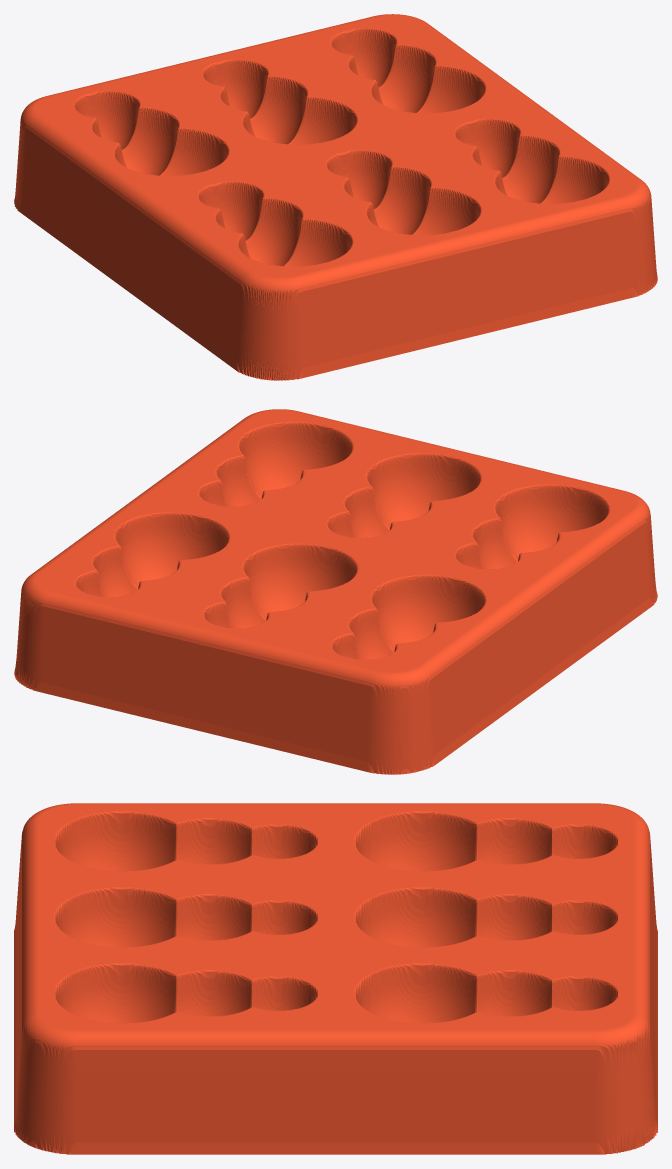
The model's file is mold.glb.
3 views of the same model, one above another, from view 1: azimuth 30°, elevation 25°; view 2: azimuth 150°, elevation 25°; view 3: azimuth 270°, elevation 25° (orthographic). The views are drawn at different scales.
Visible parts, largest first — view 1: geometry_0; view 2: geometry_0; view 3: geometry_0.
Part boxes in pixels (<box>): geometry_0: <box>14,14,657,380</box>; geometry_0: <box>14,409,657,774</box>; geometry_0: <box>14,803,657,1154</box>.
Size of the model in its own units: 0.0845 by 0.0182 by 0.0933.
